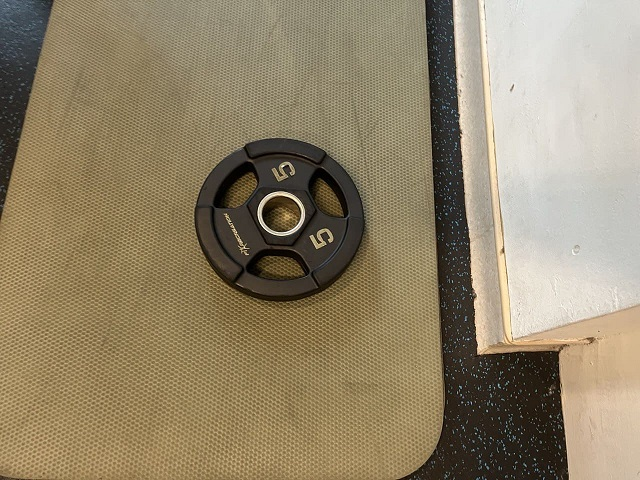weights: (195, 134, 367, 303)
